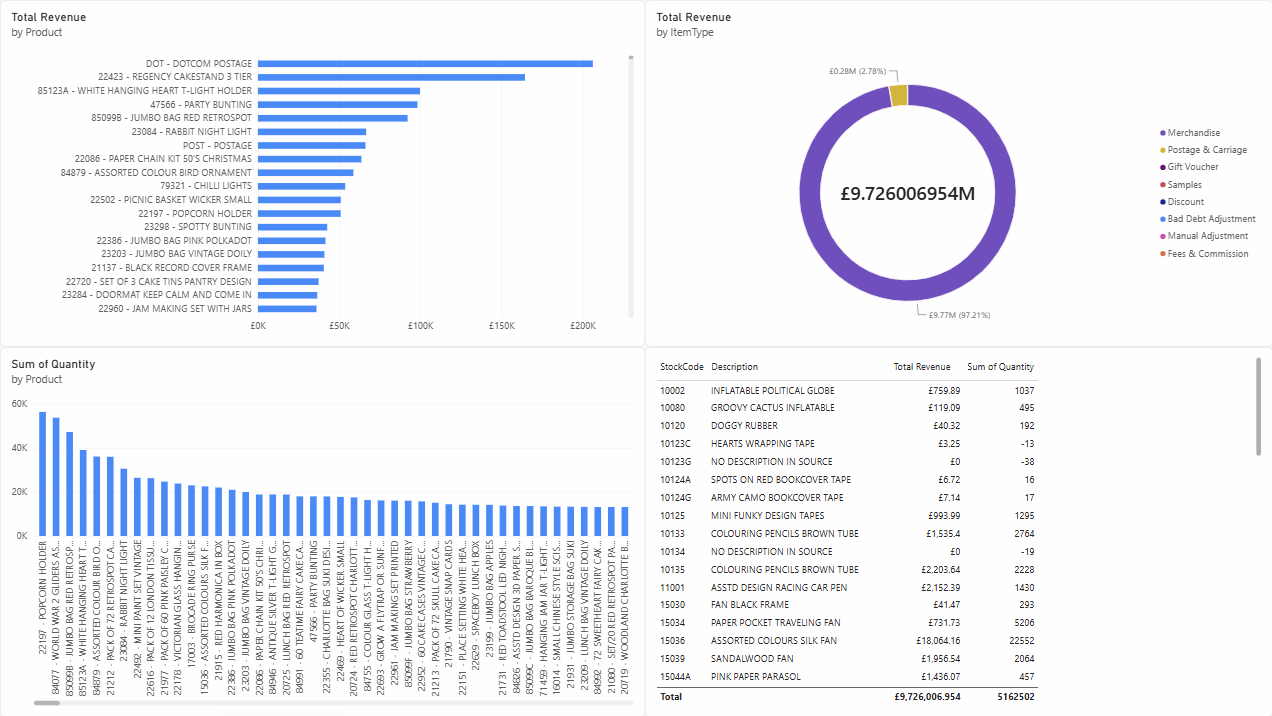

Layout of this report page (visuals, bound fields, positions):
{"tool":"powerbi","page":{"name":"Product Performance","canvas":[1920,1080],"ordinal":1},"visuals":[{"type":"clusteredBarChart","fields":{"Category":["DimProduct.Product"],"Y":["FactSales.Total Revenue"]},"box":[0,0,972.8,523.4],"z":0},{"type":"donutChart","fields":{"Category":["DimProduct.ItemType"],"Y":["FactSales.Total Revenue"]},"box":[972.8,0,947.2,523.4],"z":1000},{"type":"clusteredColumnChart","fields":{"Category":["DimProduct.Product"],"Y":["Sum(FactSales.Quantity)"]},"box":[0,523.4,972.8,558.1],"z":2000},{"type":"tableEx","fields":{"Values":["DimProduct.StockCode","DimProduct.Description","FactSales.Total Revenue","Sum(FactSales.Quantity)"]},"box":[972.8,523.4,947.2,558.1],"z":3000}]}

Visuals, with their boxes in screenshot pixels (x1, y1, x2, y2), scaled from the page's 1920x1080 canvas onto the 1272x716 screenshot:
clusteredBarChart - DimProduct.Product x FactSales.Total Revenue: (left=0, top=0, right=644, bottom=347)
donutChart - DimProduct.ItemType x FactSales.Total Revenue: (left=644, top=0, right=1271, bottom=347)
clusteredColumnChart - DimProduct.Product x Sum(FactSales.Quantity): (left=0, top=347, right=644, bottom=715)
tableEx - DimProduct.StockCode x DimProduct.Description: (left=644, top=347, right=1271, bottom=715)
